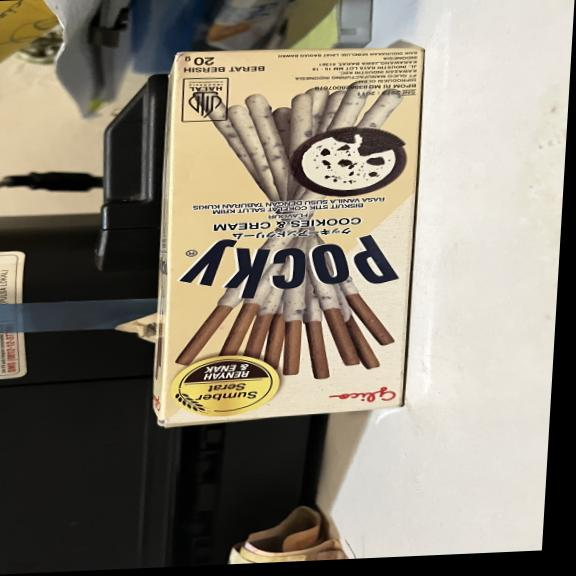Kertas: (161, 45, 425, 425)
